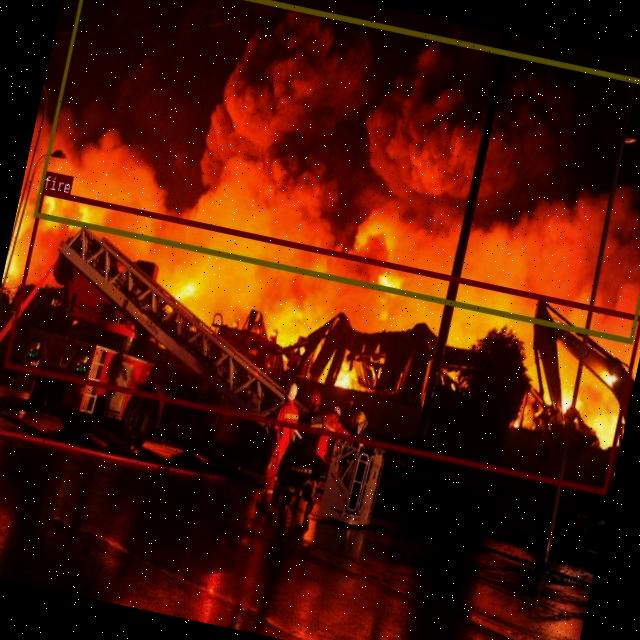fire: (3, 187, 640, 492)
smoke: (33, 0, 640, 343)
